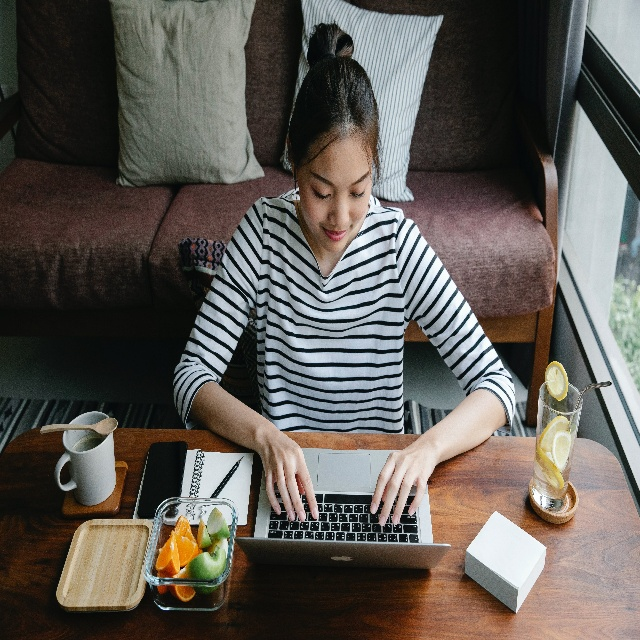Sin_guantes: (257, 425, 319, 522), (370, 437, 436, 526)
